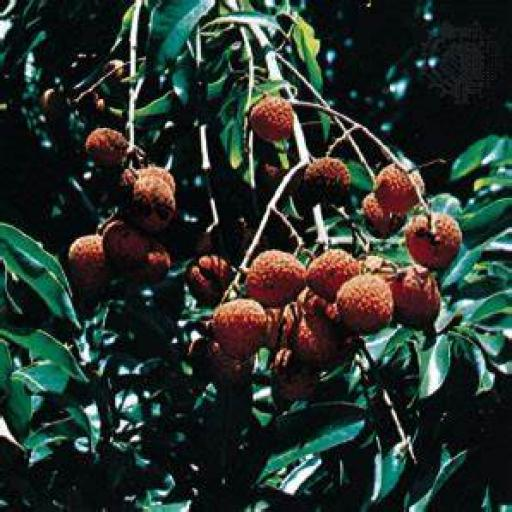lychee: (104, 221, 171, 285), (212, 299, 268, 360), (246, 250, 305, 307), (337, 275, 393, 334), (406, 214, 462, 269), (391, 267, 439, 327), (306, 250, 359, 302), (291, 315, 341, 368), (129, 178, 176, 233), (375, 164, 424, 215), (69, 234, 109, 295), (104, 221, 151, 271), (186, 255, 231, 305), (303, 158, 350, 203), (207, 340, 254, 383), (250, 96, 293, 141), (128, 241, 171, 285), (363, 193, 403, 237), (85, 128, 128, 167), (275, 366, 319, 401), (121, 166, 175, 194), (265, 306, 298, 349), (296, 289, 338, 322), (105, 60, 127, 81)
